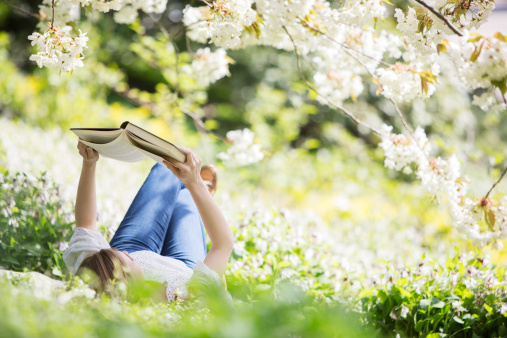deitado: (61, 117, 221, 295)
